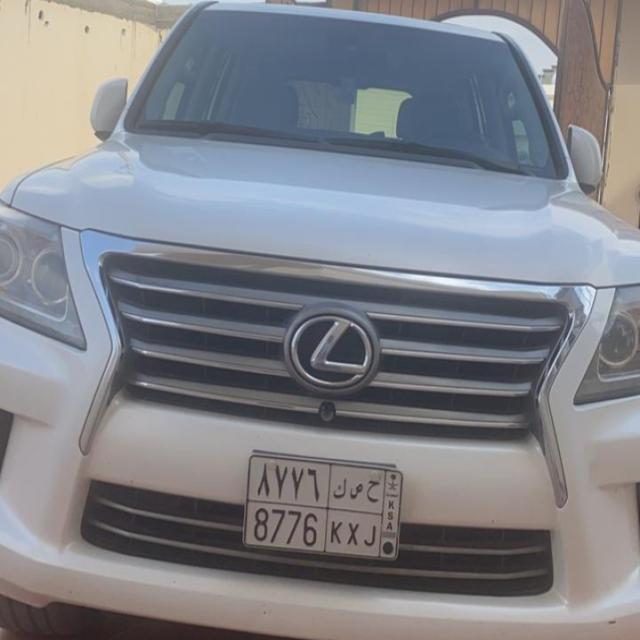license_plate: (241, 448, 406, 564)
